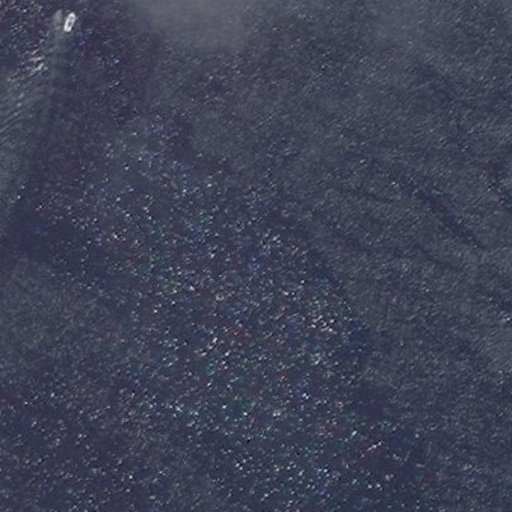ship: (61, 10, 78, 35)
